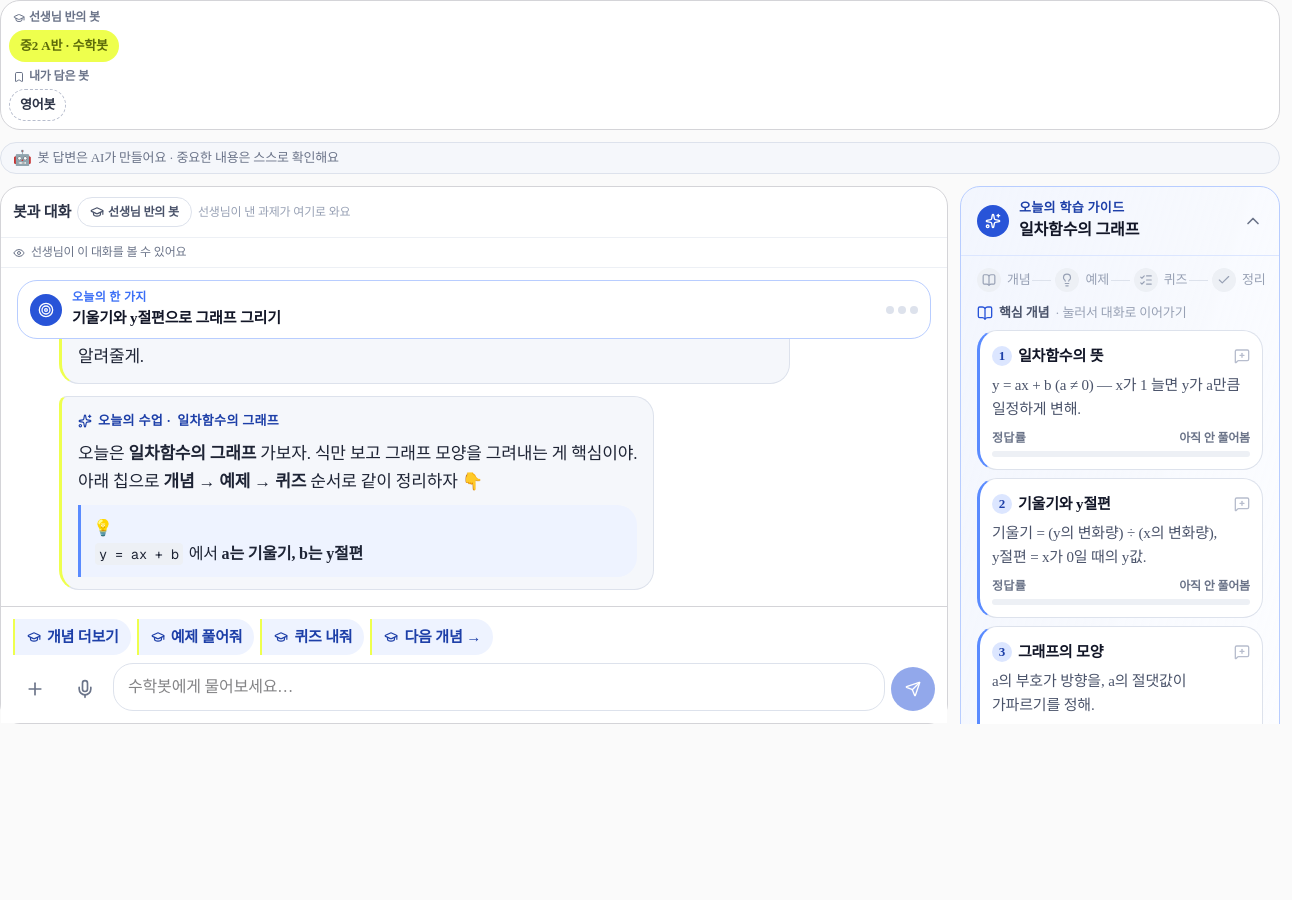
상단 고지 「선생님이 이 대화를 볼 수 있어요」 › 반에서 담은 봇으로 갈아타면 고지도 내려간다
(page scrolled)
Expected: the text "선생님이 이 대화를 볼 수 있어요" is shown, x1=1 y1=238 x2=947 y2=268
Click the button "영어봇": [38, 105] box x1=9 y1=89 x2=66 y2=121
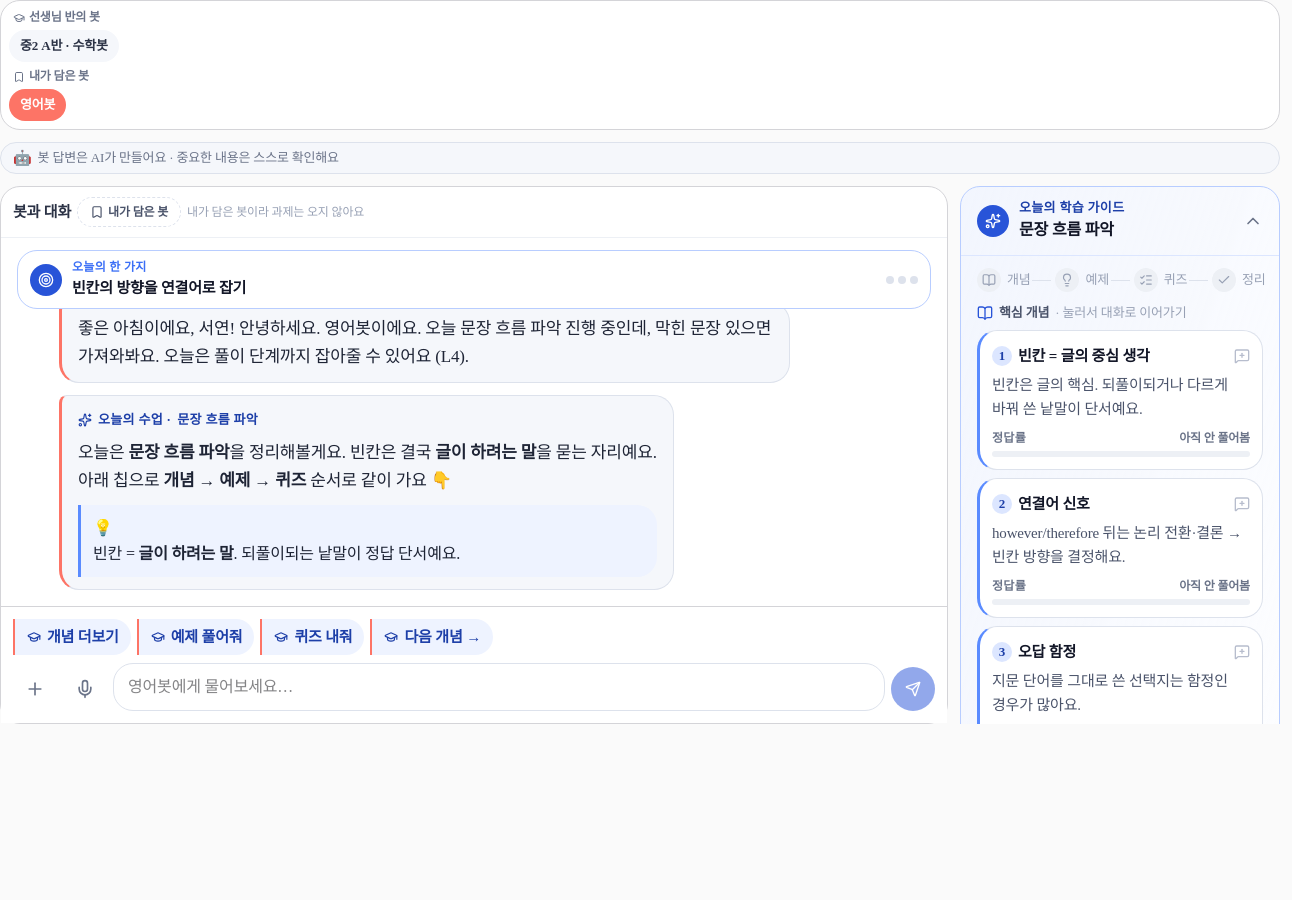
Result: the text "선생님이 이 대화를 볼 수 있어요" is gone
